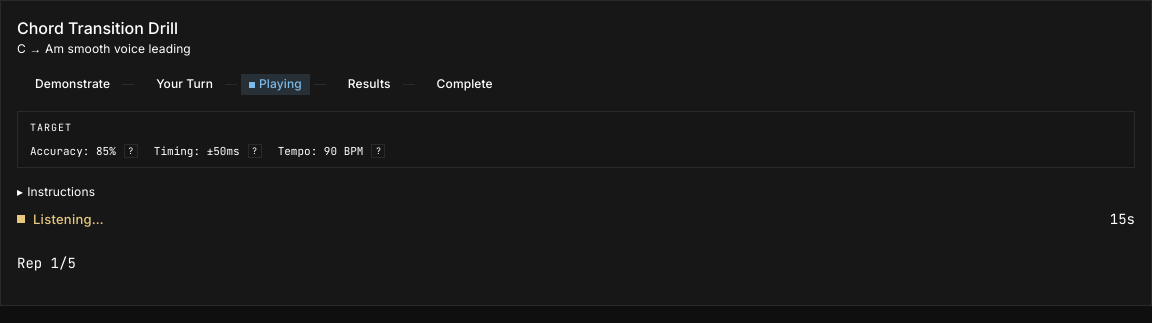
DrillController › Success criteria › provides tooltip explanations for each metric
The width and height of the screenshot is (1152, 323).
Hover over the button "?" next to "85%" at (131, 151), box [124,144,138,158]
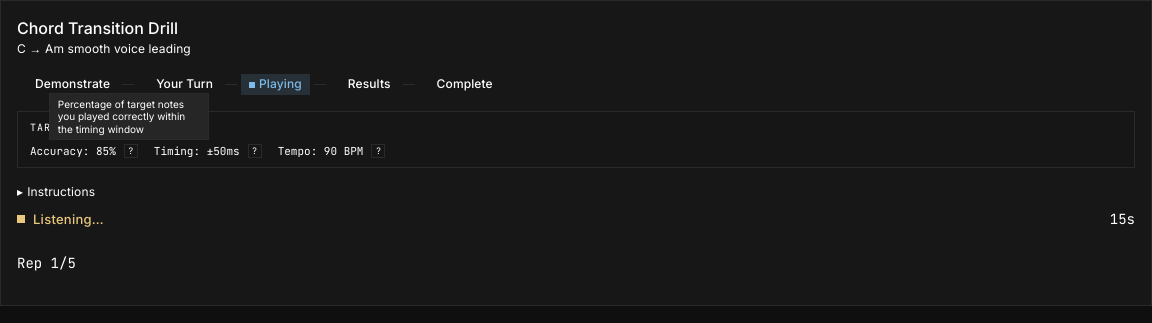
Now the tooltip is shown, box [49,93,209,140]
